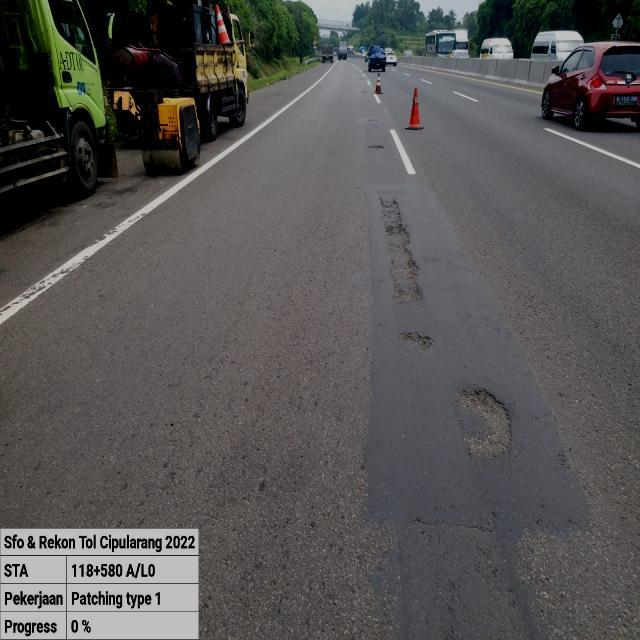Buraco: (376, 196, 424, 307), (452, 386, 516, 462), (395, 329, 436, 353), (367, 144, 386, 150)
